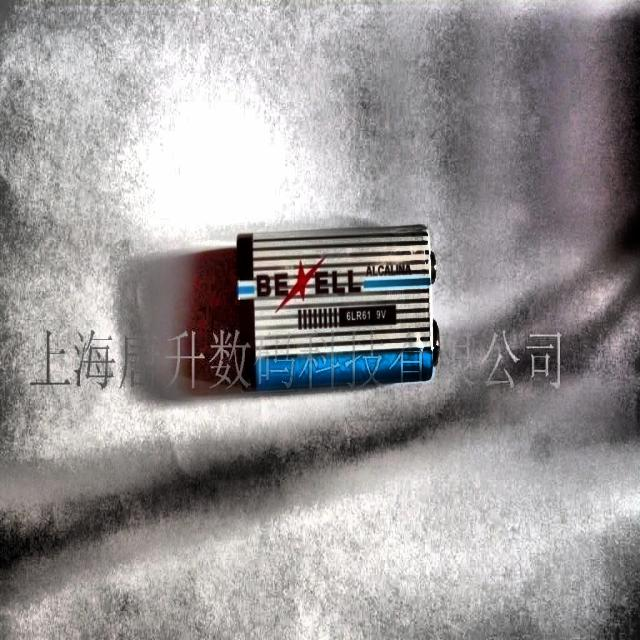Non-Valuable Waste - Batteries: (184, 225, 439, 390)
